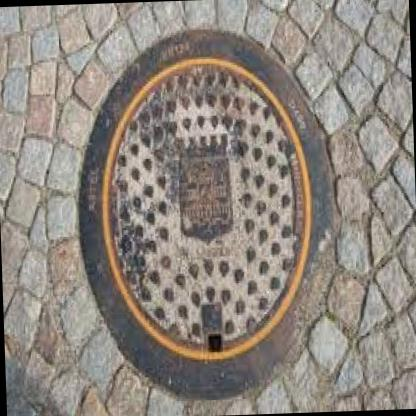manholes: (60, 7, 366, 414)
